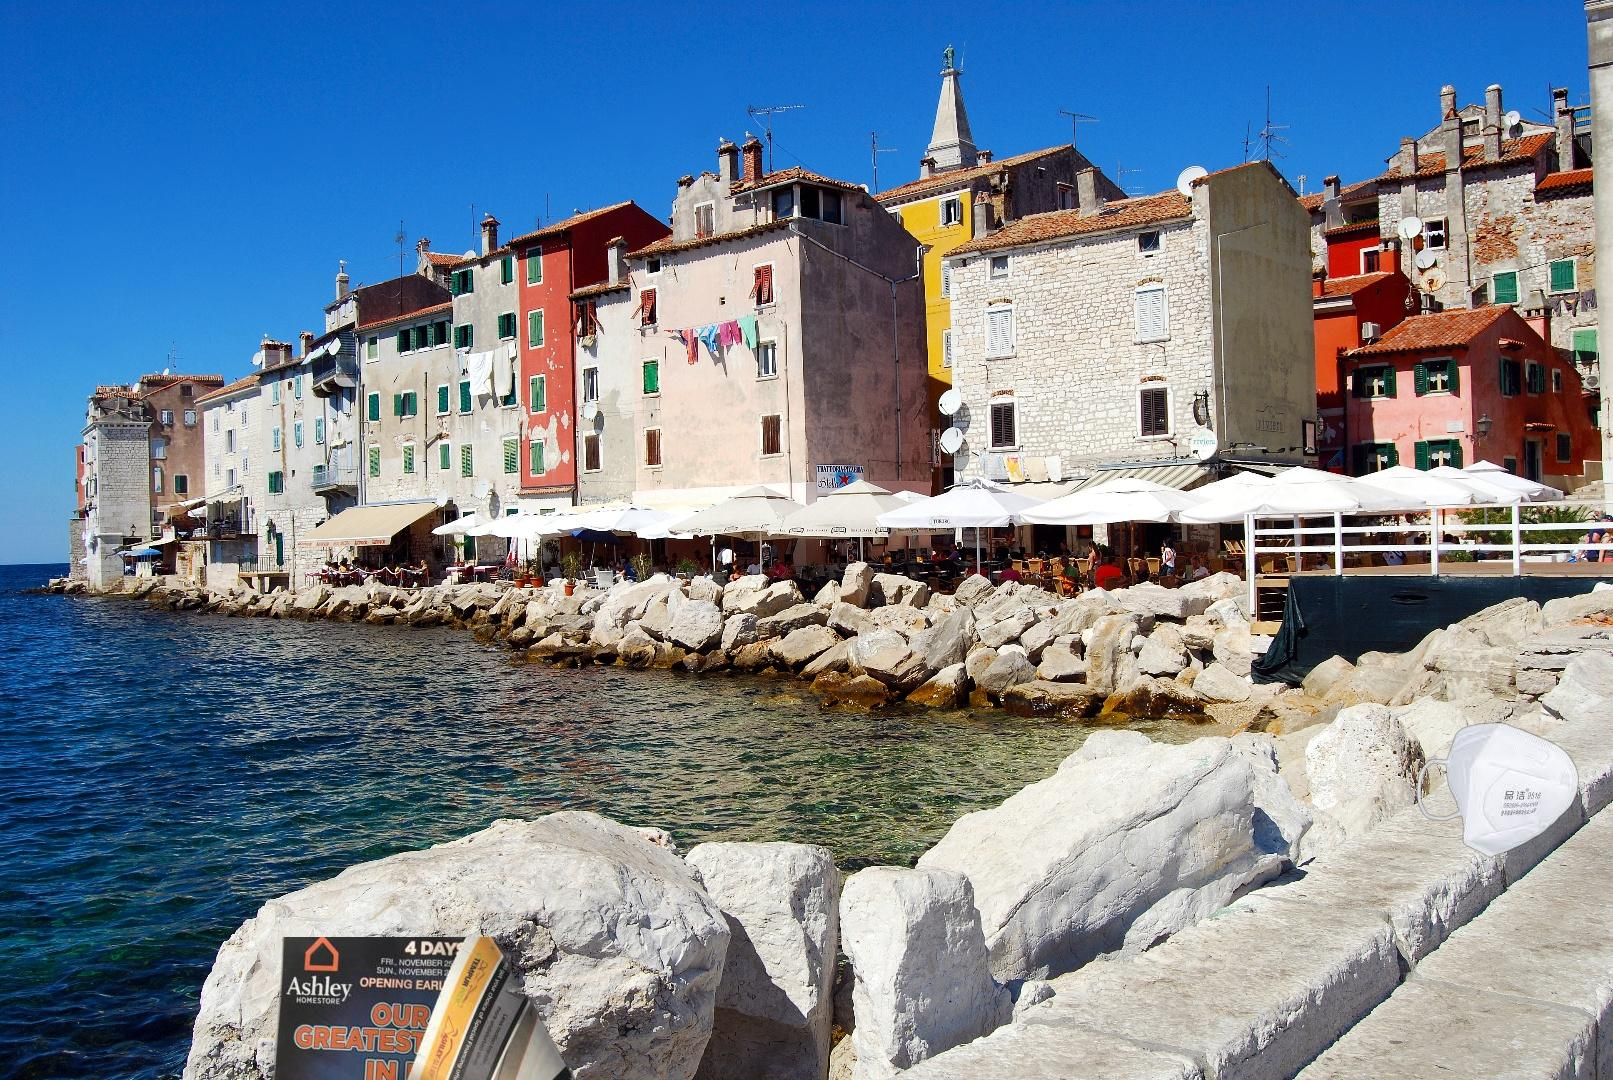paper: (246, 937, 664, 1080)
trash: (1414, 720, 1613, 860)
